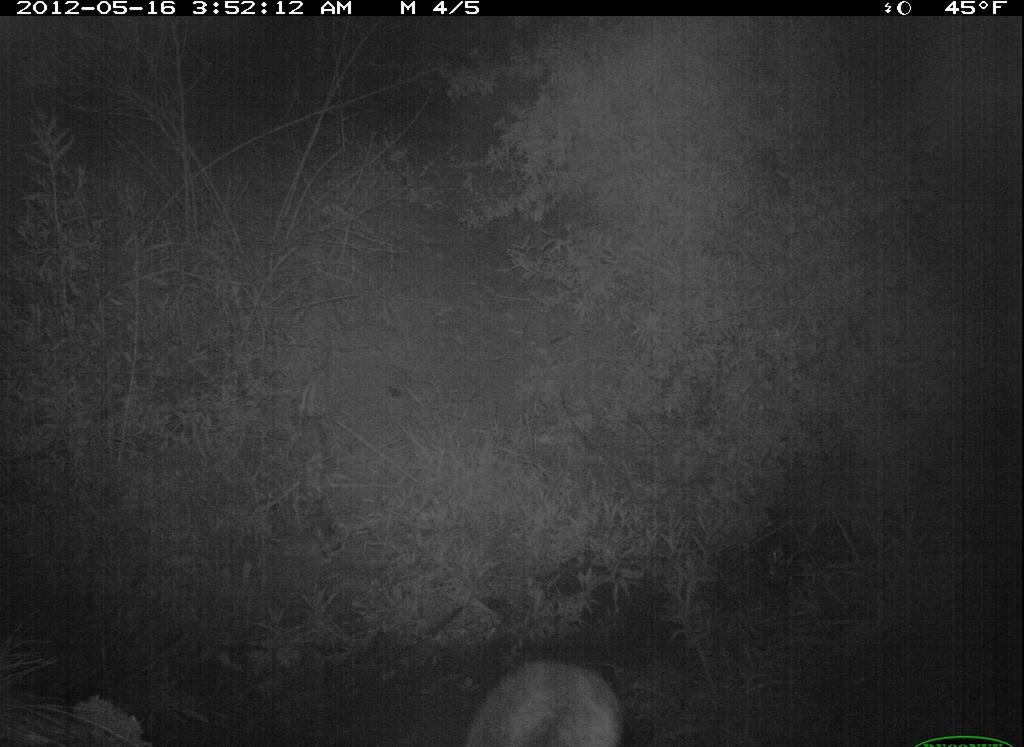cat: (459, 652, 629, 742)
